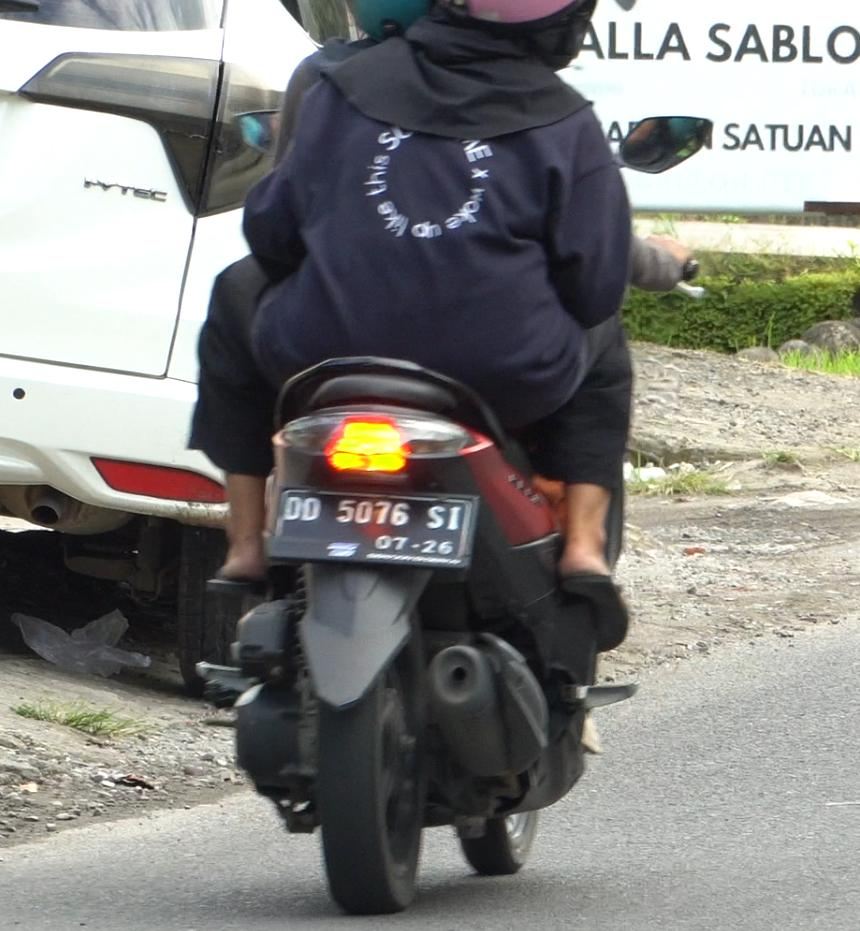number-plate: (273, 488, 481, 573)
